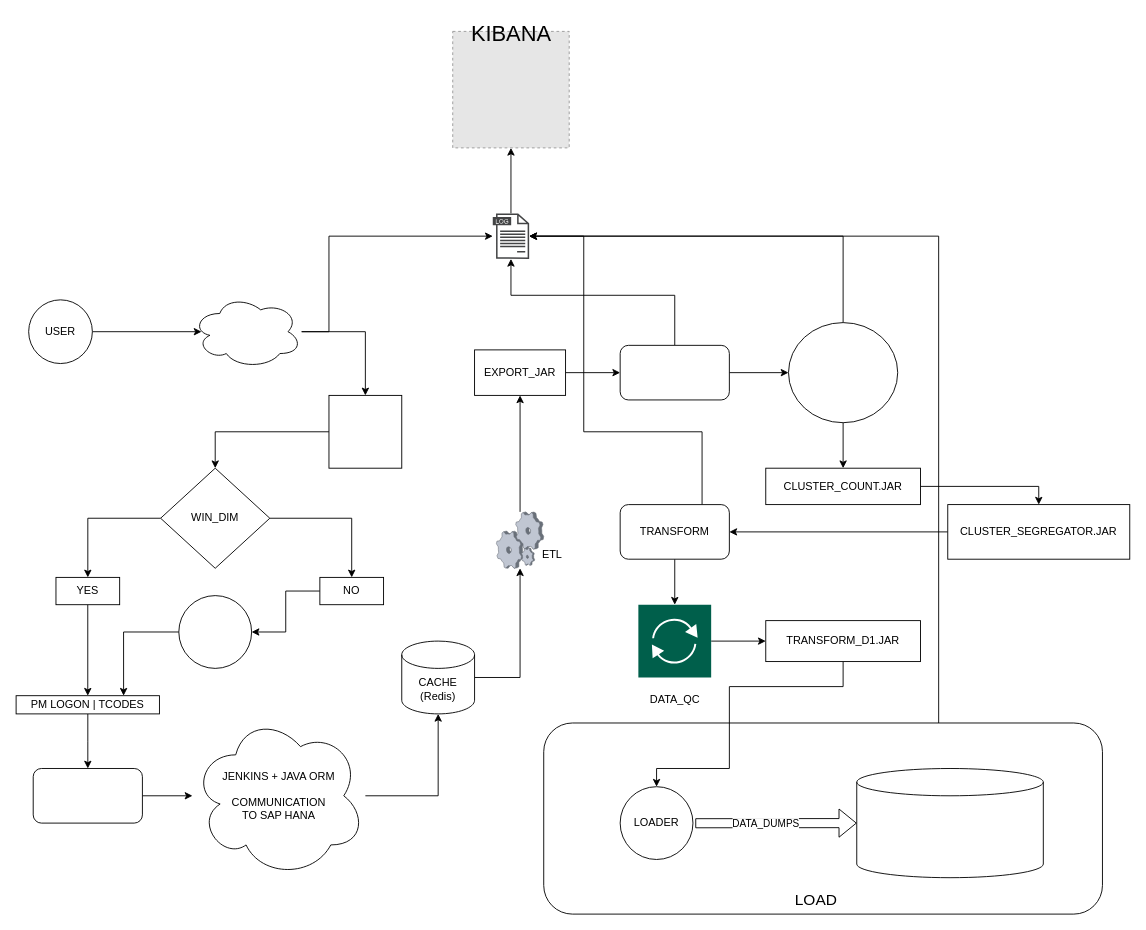
Image size: 1146x930. Some labels were removed from this diagram. Grey dashed boxes stand in for pictures. The shapes that lost their labels are listed below. From the top down, each one's centre as x and y in pixels, then its label:
(x=247, y=331): Citrix
(x=674, y=372): EXPORT
(x=843, y=372): DB_CLUSTER (AZURE)
(x=365, y=431): SAP
(x=215, y=631): MAXIMIZE
(x=87, y=795): SAP HANA QUERY
(x=949, y=823): CENTRAL_DB Prefer. Cassandra DB
